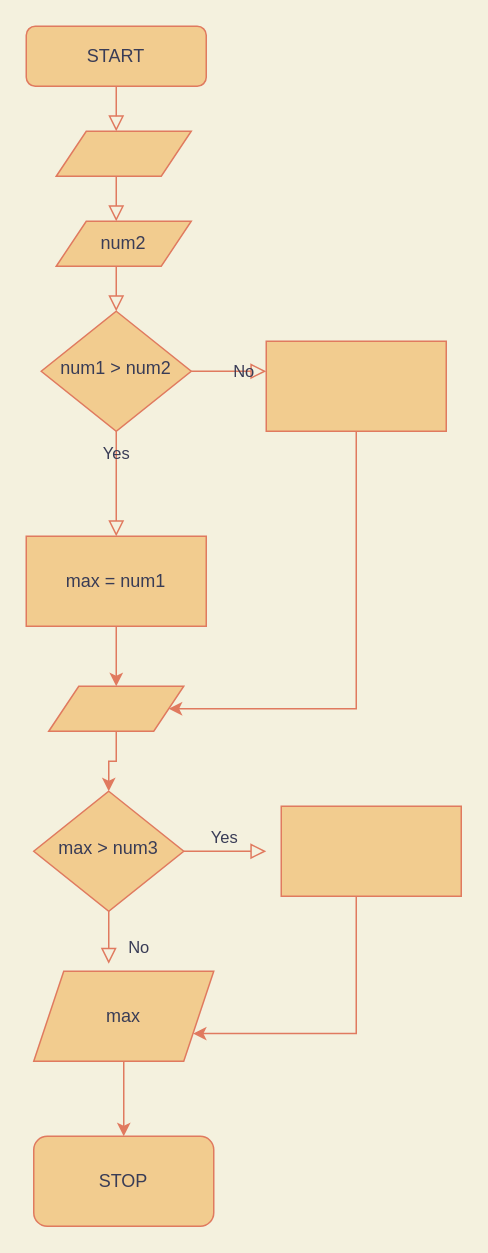
Some shapes in this 488 by 1253 pixel diagram are drawn without their labels. The shapes that lost their labels are listed below. From the top down, each one's centre as x and y in pixels, then its label:
At (123,153): "num1".
At (355,385): "max = num2".
At (115,708): "num3".
At (370,850): "max = num3".
